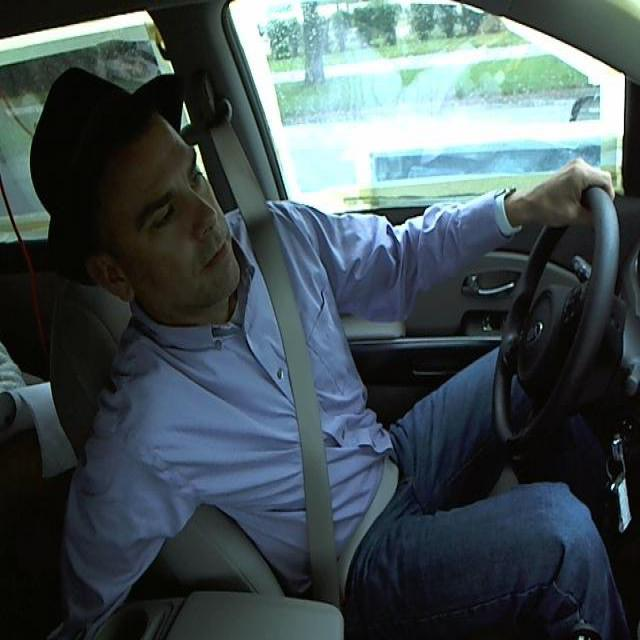seatbelt: (253, 216, 391, 589)
